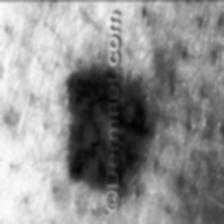Potentially Malignant Skin Tumors: (60, 58, 106, 199), (124, 72, 153, 182)
